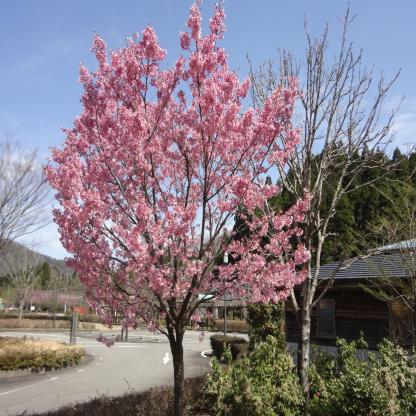Momo: (40, 0, 315, 350)
